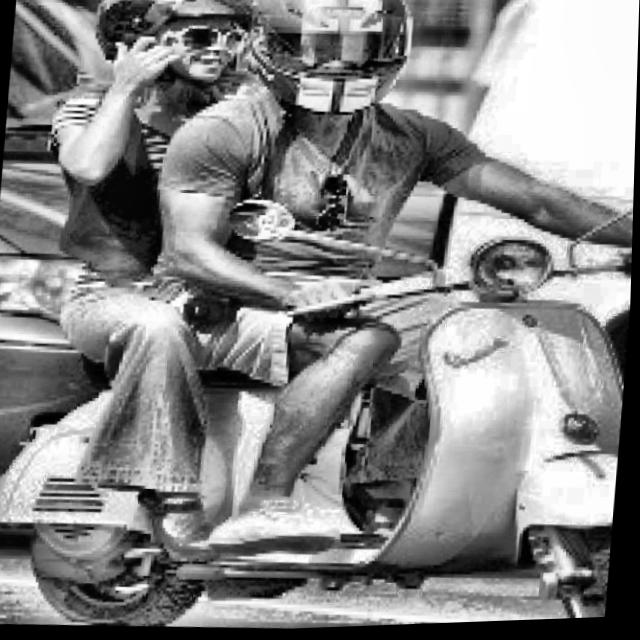motorcycle: (0, 159, 636, 640)
